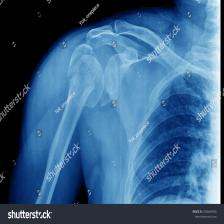closed-simple-fracture: (9, 1, 223, 204)
